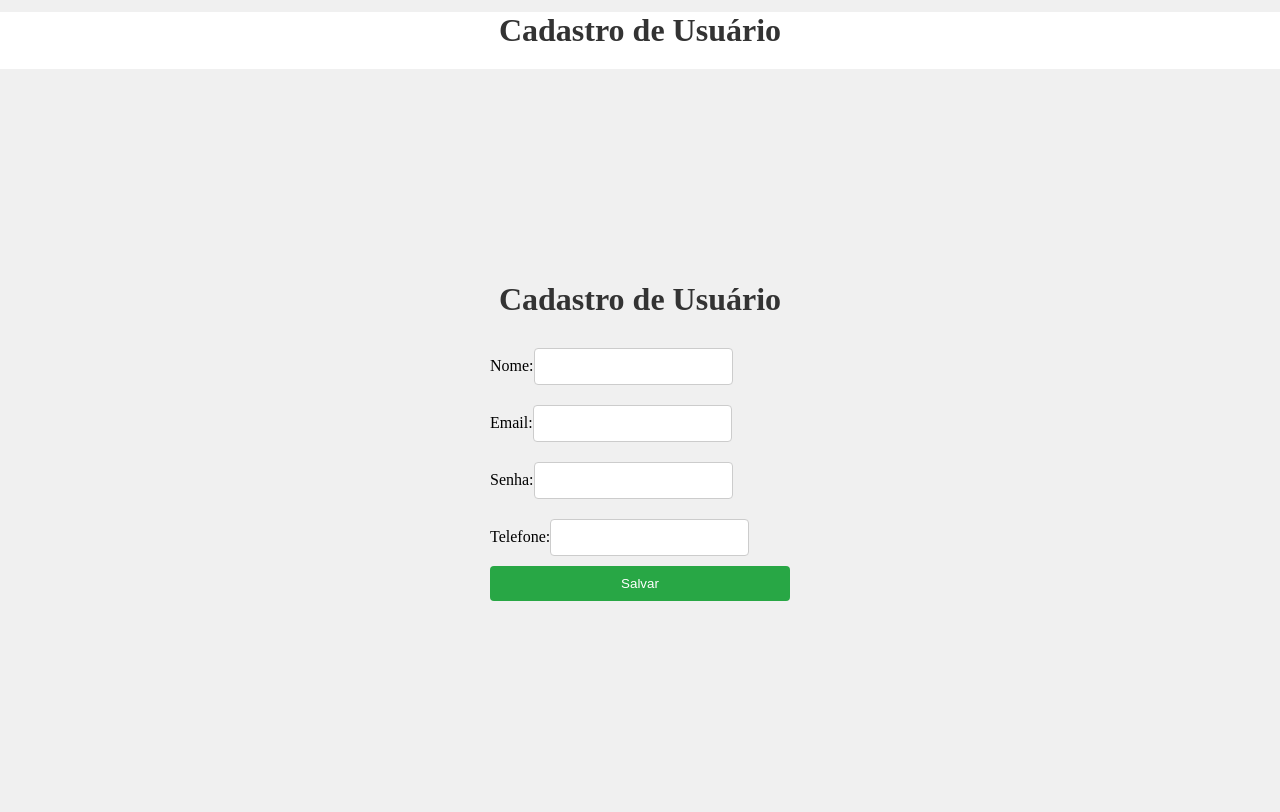
Test case: Testes de interface › Cadastro usuarios
Type "Joel Santos" into the field with id "nome" at (634, 367), box [534,348,733,385]
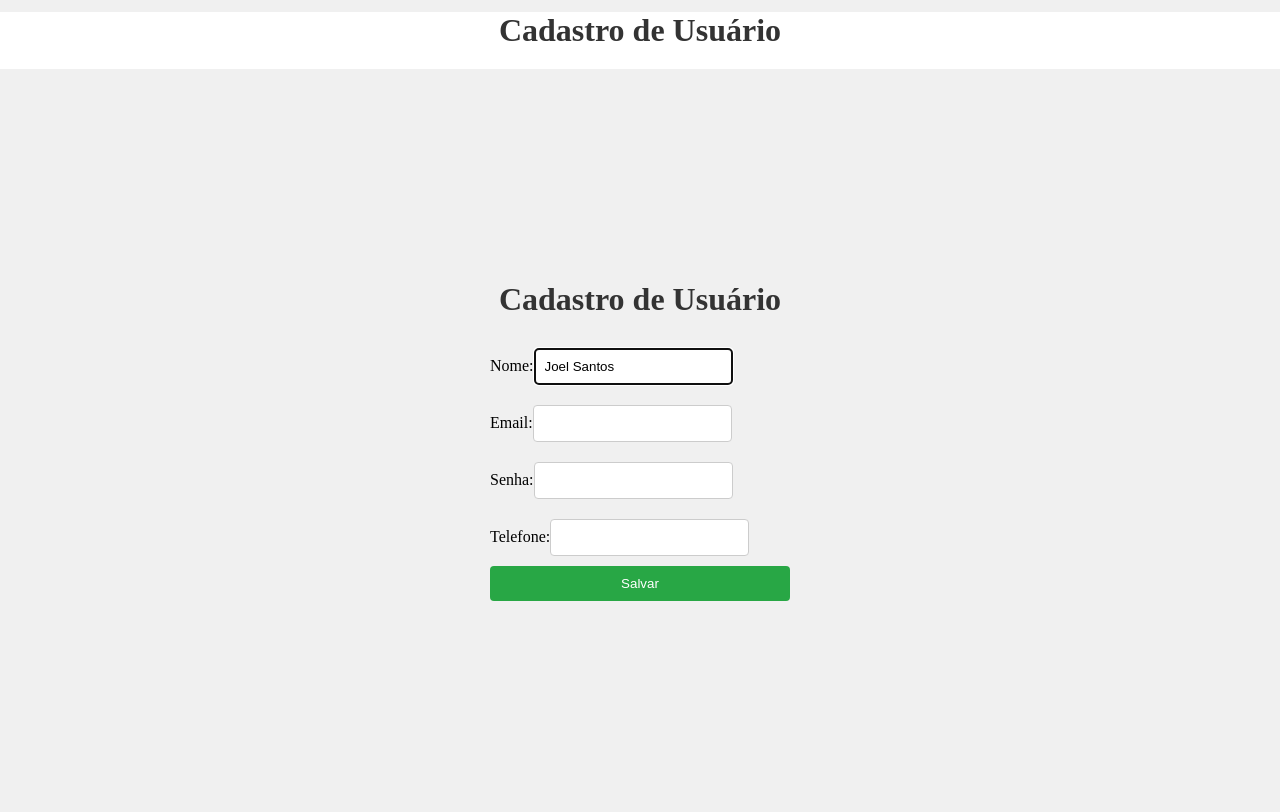
Type "joelsantos@email.com" into the field with id "email" at (633, 424), box [533,405,732,442]
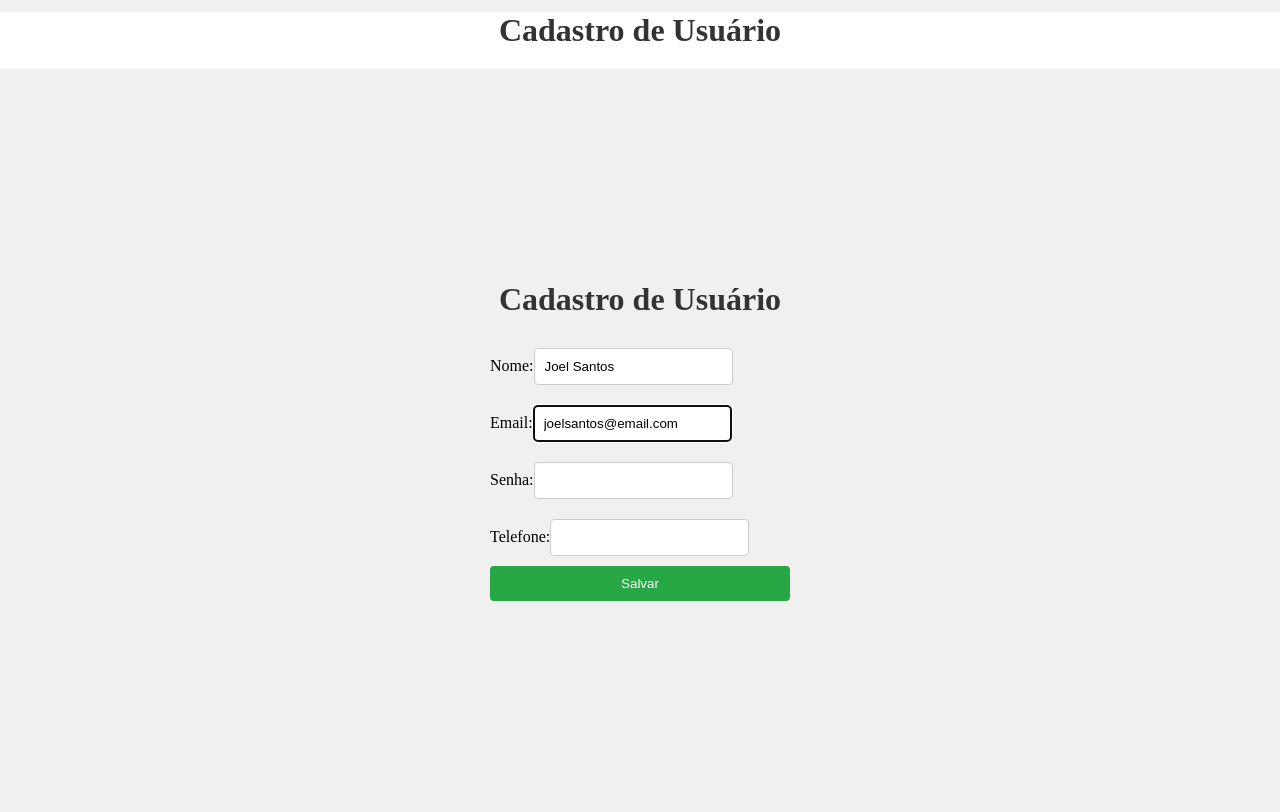
Type "senha123" into the password field with id "senha" at (634, 481), box [534,462,733,499]
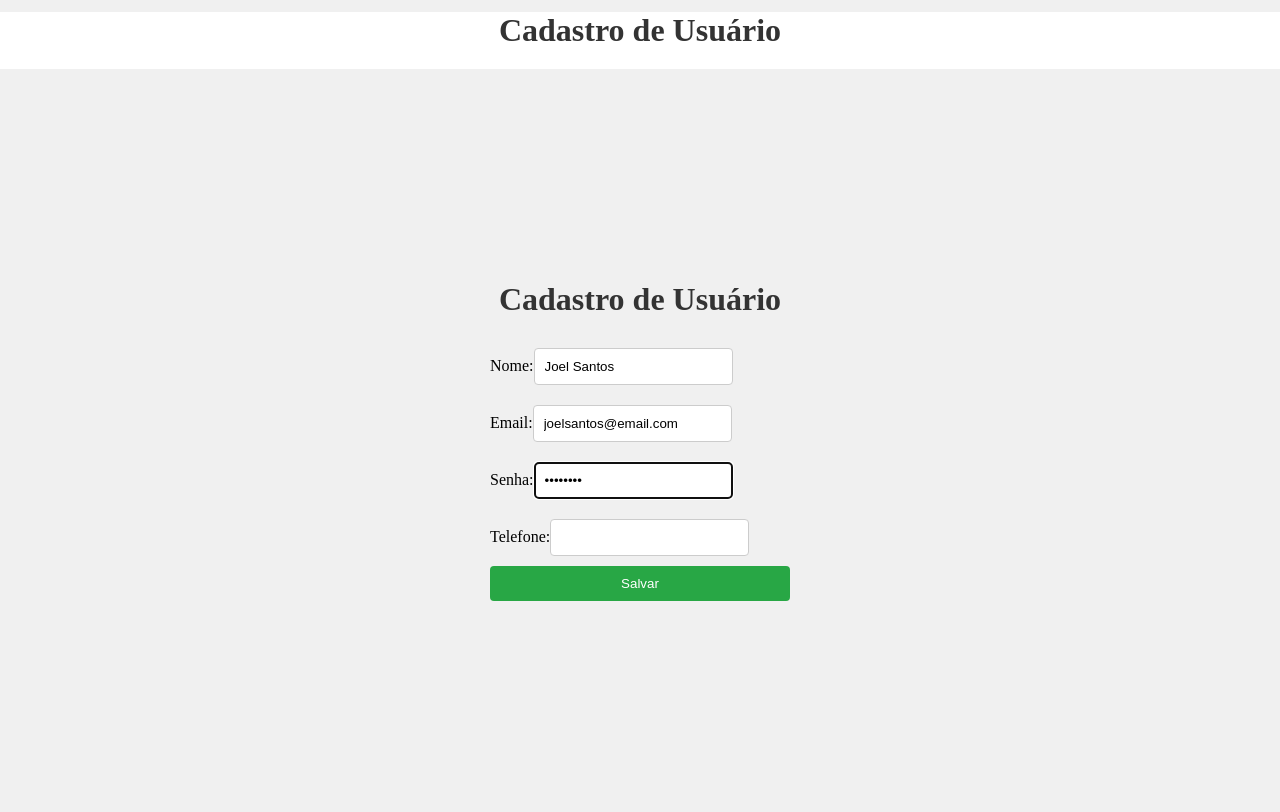
Type "11999999999" into the field with id "telefone" at (650, 538), box [550,519,749,556]
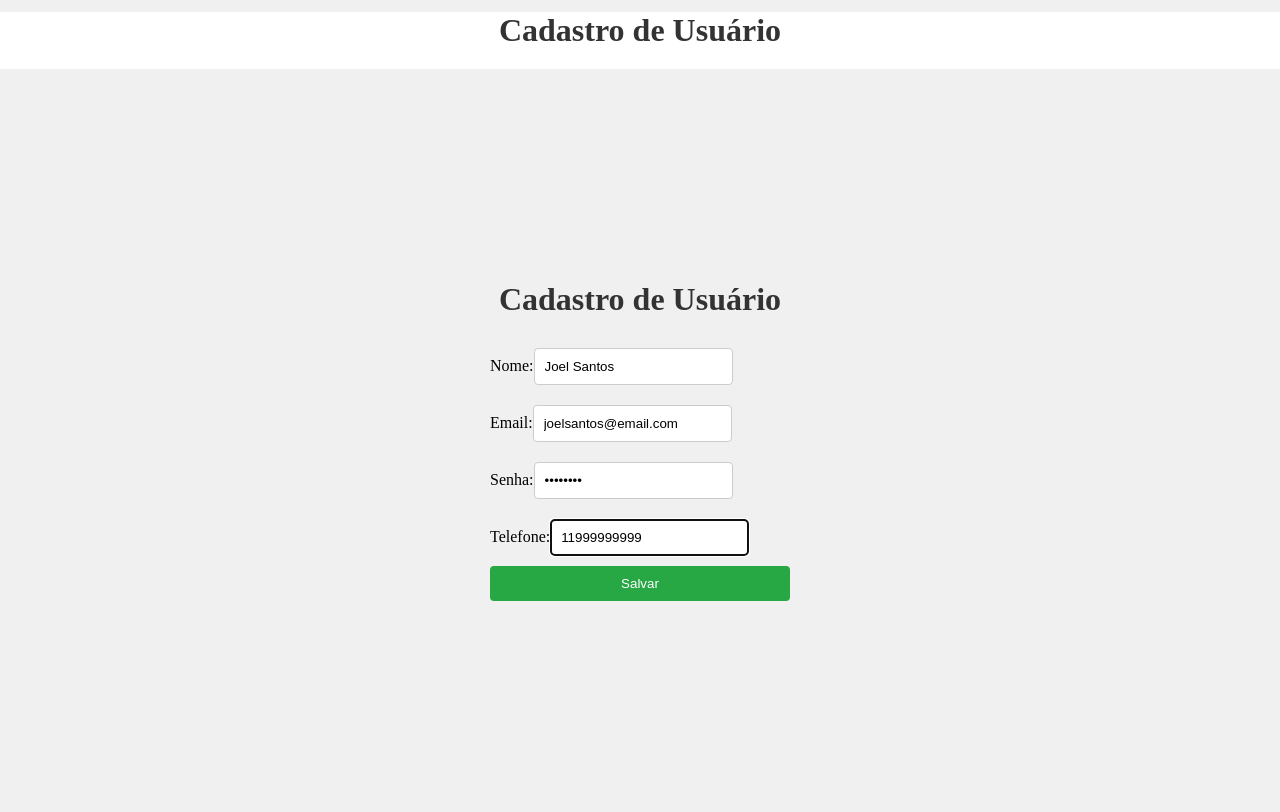
Click the button "Salvar" at (640, 584), box [490,566,790,601]
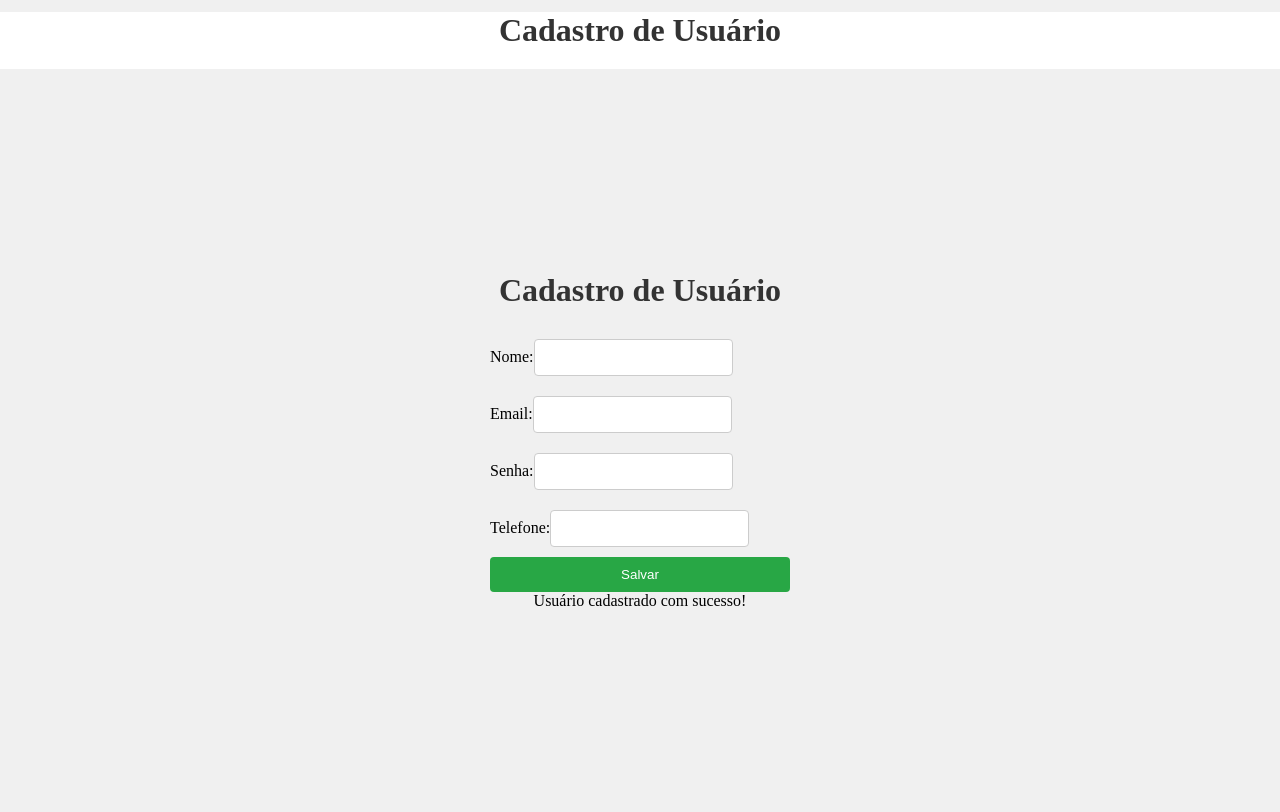
Now the text "Usuário cadastrado com sucesso!" is shown, box [534,592,746,610]
